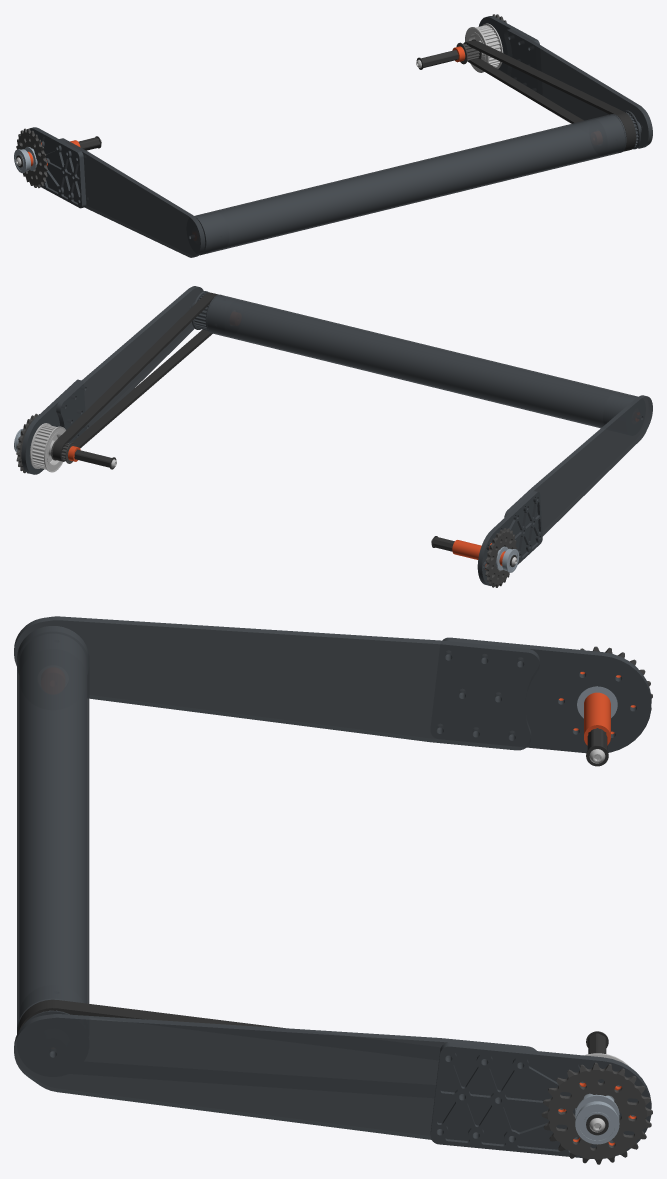
The picture shows the model from 3 angles, top to bottom: view 1: azimuth 30°, elevation 25°; view 2: azimuth 150°, elevation 25°; view 3: azimuth 270°, elevation 25°; orthographic projection. The views are drawn at different scales.
Parts seen in each view (by area): view 1: Polycarb Roller w/ cat tongue grip tape, SRPP Plate (×2), Part 2 (×2), 177T 5M 14mm Wide Belt, Part 1 (×2), 24t Aluminum Plate Sprocket (#35 Chain, SplineXL Bore) (WCP-, 36t 15mm Wide 1/2" Hex Bore Double Flange 5mm HTD Aluminum P, Shaft; view 2: Polycarb Roller w/ cat tongue grip tape, SRPP Plate (×2), 177T 5M 14mm Wide Belt, Part 2 (×2), 36t 15mm Wide 1/2" Hex Bore Double Flange 5mm HTD Aluminum P, 24t Aluminum Plate Sprocket (#35 Chain, SplineXL Bore) (WCP-, Part 1, Shaft; view 3: SRPP Plate (×2), Part 2 (×2), Polycarb Roller w/ cat tongue grip tape, 24t Aluminum Plate Sprocket (#35 Chain, SplineXL Bore) (WCP-, 177T 5M 14mm Wide Belt, Part 1, .5" Hex ID 1.125" OD Flanged Bearing (217-2734), Part 6, Shaft.
Part boxes in pixels (x1,y1,x2,y2): Polycarb Roller w/ cat tongue grip tape: (199, 114, 625, 252); SRPP Plate (×2): (59, 29, 652, 257); Part 2 (×2): (27, 16, 539, 208); 177T 5M 14mm Wide Belt: (463, 40, 636, 151); Part 1 (×2): (194, 110, 640, 255); 24t Aluminum Plate Sprocket (#35 Chain, SplineXL Bore) (WCP-: (16, 128, 47, 188); 36t 15mm Wide 1/2" Hex Bore Double Flange 5mm HTD Aluminum P: (465, 23, 502, 72); Shaft: (416, 50, 458, 69); Polycarb Roller w/ cat tongue grip tape: (206, 294, 633, 428); SRPP Plate (×2): (56, 286, 652, 536); 177T 5M 14mm Wide Belt: (51, 292, 218, 461); Part 2 (×2): (21, 379, 542, 585); 36t 15mm Wide 1/2" Hex Bore Double Flange 5mm HTD Aluminum P: (30, 423, 65, 472); 24t Aluminum Plate Sprocket (#35 Chain, SplineXL Bore) (WCP-: (485, 528, 516, 587); Part 1: (192, 291, 234, 334); Shaft: (74, 449, 116, 469); SRPP Plate (×2): (14, 616, 539, 1139); Part 2 (×2): (430, 637, 651, 1158); Polycarb Roller w/ cat tongue grip tape: (17, 631, 89, 1026); 24t Aluminum Plate Sprocket (#35 Chain, SplineXL Bore) (WCP-: (541, 1062, 652, 1164); 177T 5M 14mm Wide Belt: (17, 999, 285, 1032); Part 1: (17, 626, 89, 674); .5" Hex ID 1.125" OD Flanged Bearing (217-2734): (575, 1101, 619, 1144); Part 6: (584, 692, 610, 745); Shaft: (586, 1031, 608, 1135).
Size of the model in its own units: 0.736 by 0.1076 by 0.4486.
